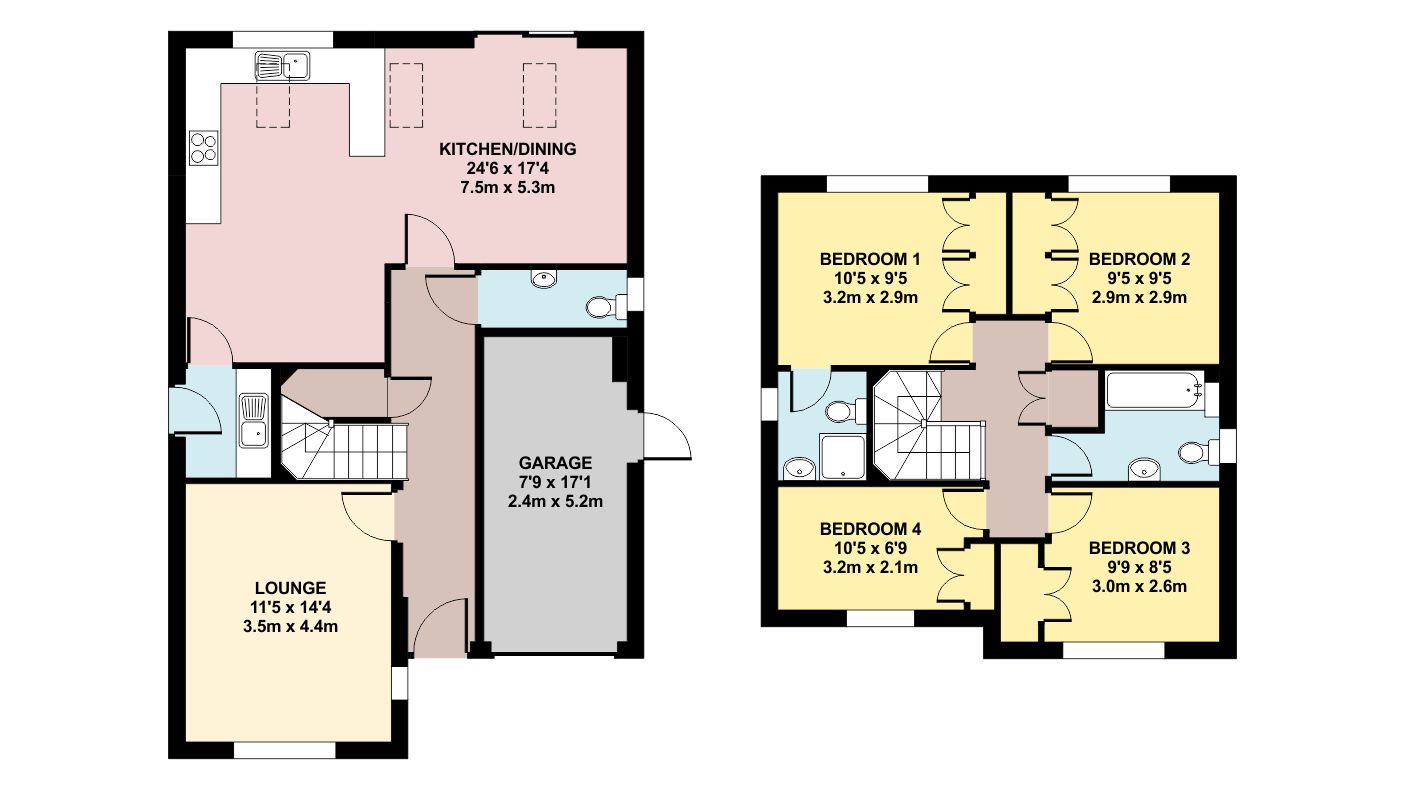door: (400, 208, 459, 262), (417, 272, 476, 326), (185, 310, 244, 364), (175, 386, 234, 440), (413, 596, 471, 648), (644, 410, 702, 462), (337, 487, 389, 544), (392, 370, 437, 422), (787, 372, 836, 419), (934, 196, 971, 256), (934, 255, 971, 315), (1054, 255, 1091, 315), (1052, 197, 1089, 257), (1010, 369, 1047, 429), (933, 546, 966, 607), (1045, 565, 1078, 626), (1050, 435, 1093, 481), (1052, 489, 1095, 535), (940, 486, 983, 532)
room: (167, 30, 393, 369), (1098, 364, 1238, 488)
